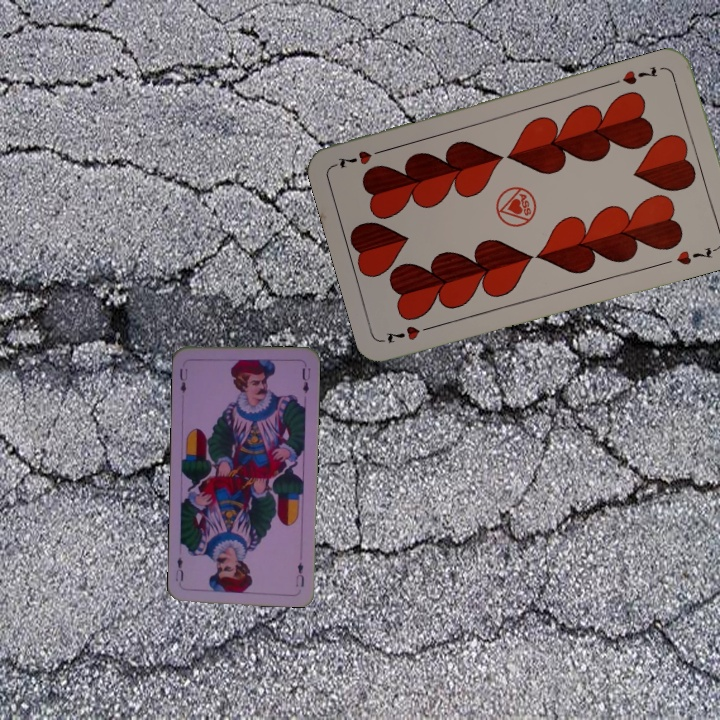EU: (291, 558, 307, 589), (175, 364, 190, 395)
H7: (382, 321, 438, 346), (618, 62, 661, 87)
